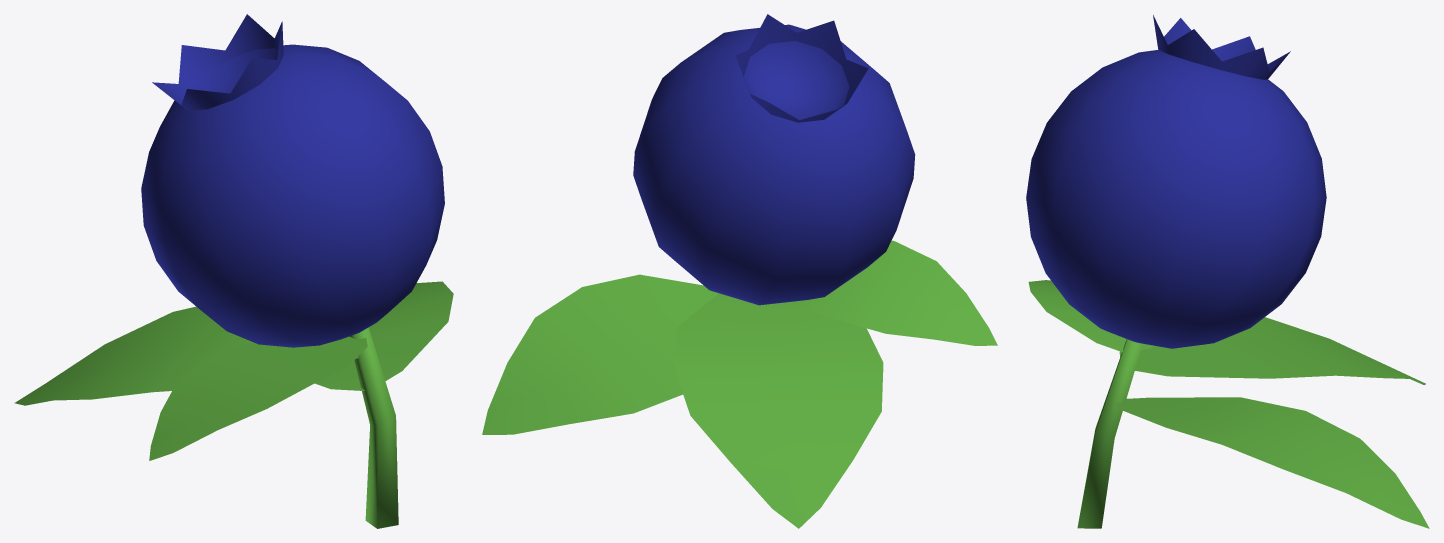
Rendered from blueberry1.fbx.
3 views of the same model, side by side, from view 1: azimuth 30°, elevation 25°; view 2: azimuth 150°, elevation 25°; view 3: azimuth 270°, elevation 25° (orthographic). The views are drawn at different scales.
Parts seen in each view (by area): view 1: Blueberry1; view 2: Blueberry1; view 3: Blueberry1.
Part boxes in pixels (x1,y1,x2,y2): Blueberry1: (14,14,453,528); Blueberry1: (482,14,997,528); Blueberry1: (1026,15,1429,528).
Size of the model in its own units: 37.05 by 42.52 by 32.98.
